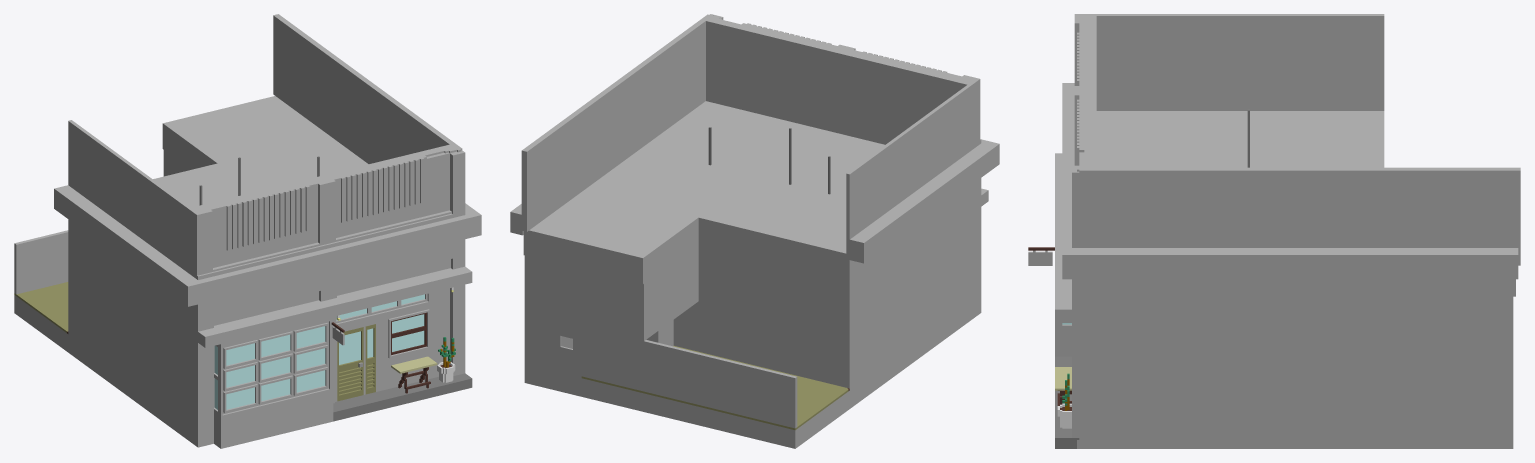
The model's file is cello.vox.obj.
3 views of the same model, side by side, from view 1: azimuth 30°, elevation 25°; view 2: azimuth 150°, elevation 25°; view 3: azimuth 270°, elevation 25° (orthographic). The views are drawn at different scales.
Bounding box in the file's own units: 16.7 × 12.6 × 20.2.
Materials: 1 (1 with a texture image).
